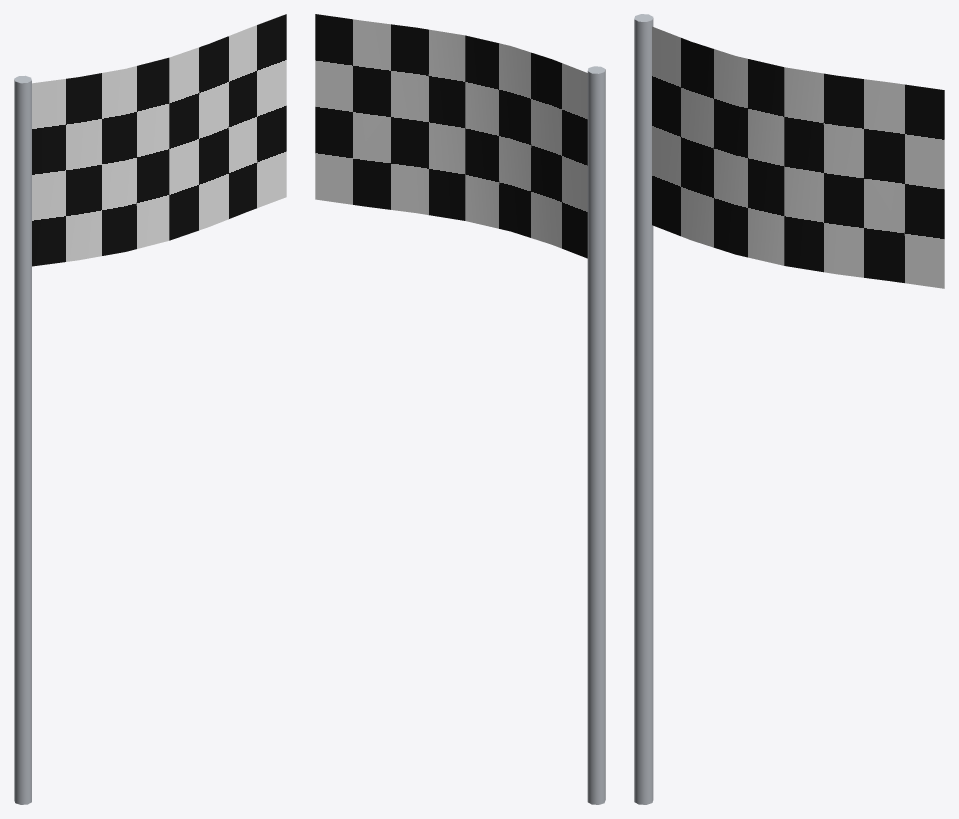
Rendered from CheckeredFlag.glb.
3 views of the same model, side by side, from view 1: azimuth 30°, elevation 25°; view 2: azimuth 150°, elevation 25°; view 3: azimuth 330°, elevation 25° (orthographic). The views are drawn at different scales.
Visible parts, largest first — view 1: Flag, Pole; view 2: Flag, Pole; view 3: Flag, Pole.
Part boxes in pixels (box(x1,y1,x2,y2)): Flag: box(32, 14, 286, 266); Pole: box(14, 75, 31, 804); Flag: box(315, 14, 587, 258); Pole: box(587, 66, 605, 804); Flag: box(652, 26, 944, 288); Pole: box(634, 14, 653, 804).
Size of the model in its own units: 1.05 by 2.6 by 0.1037.
2 materials, 1 textured.
